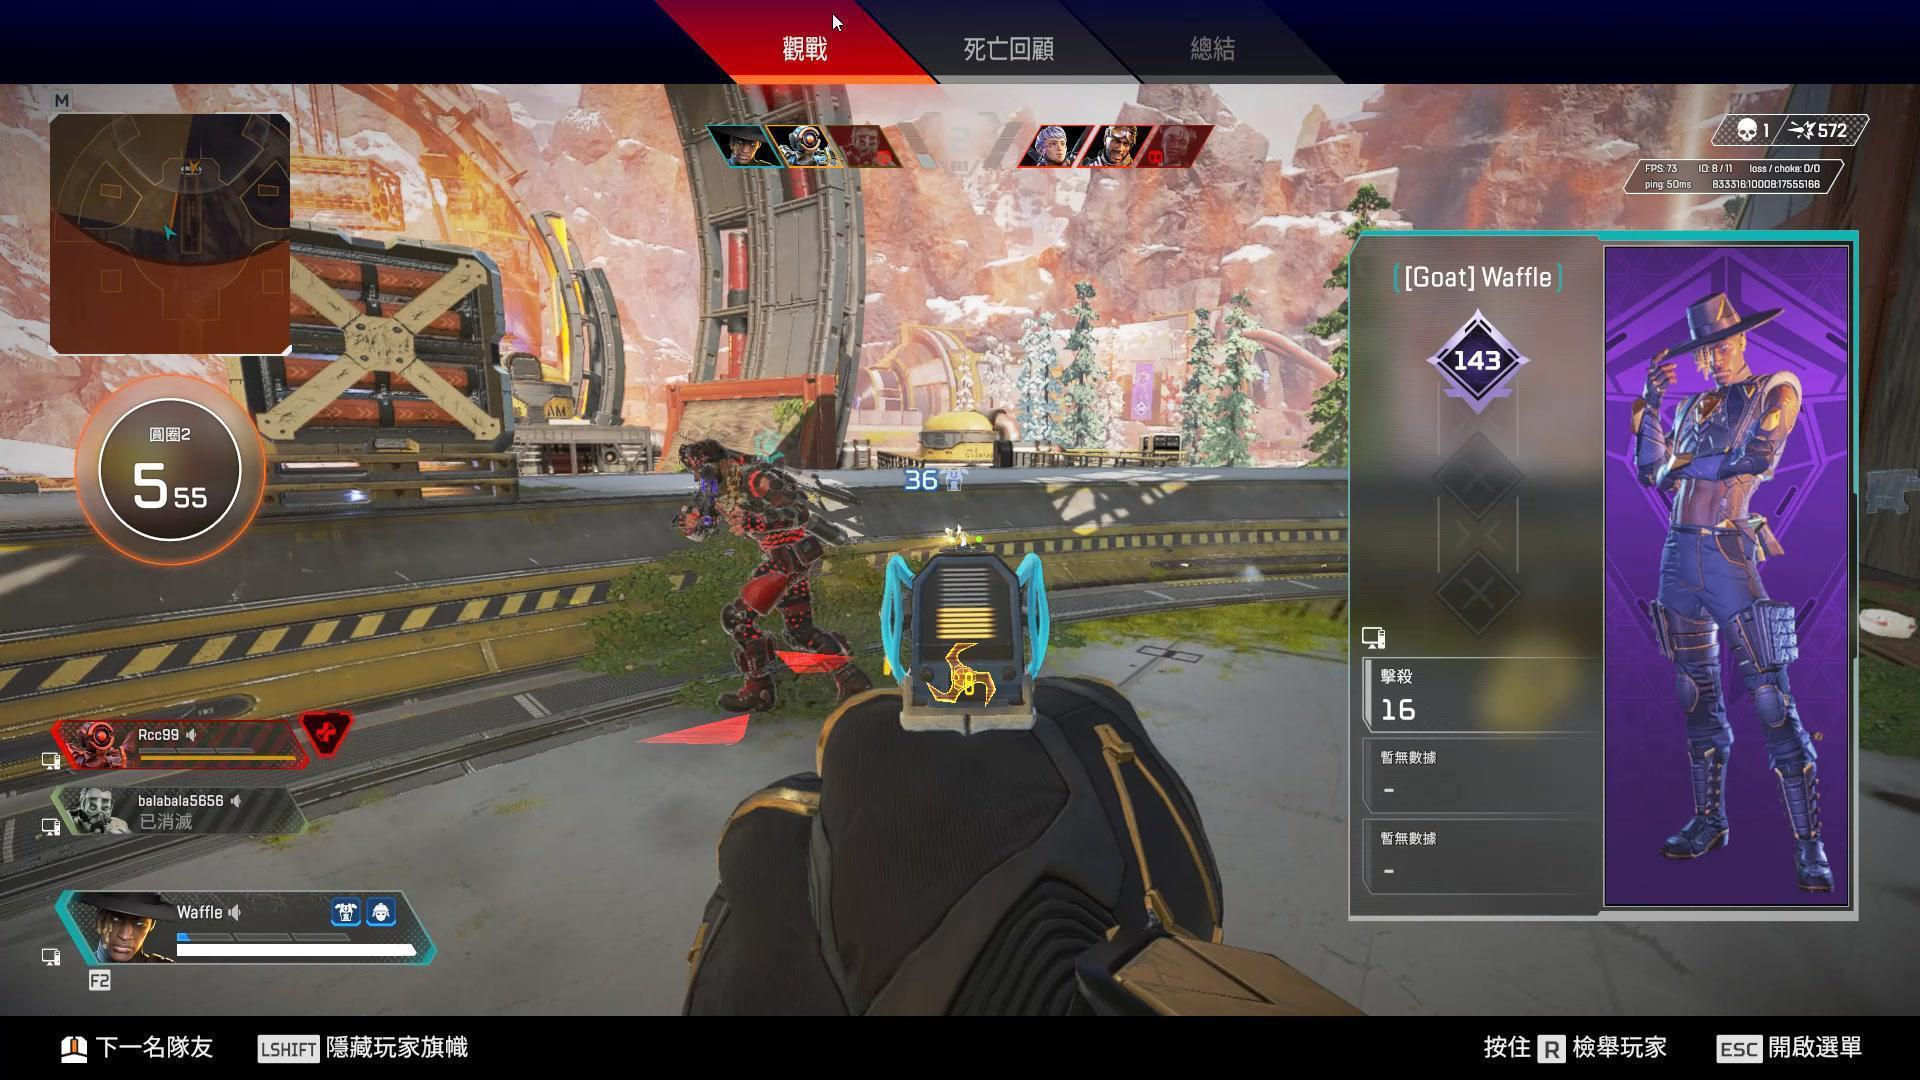avatar: (672, 433, 875, 713)
